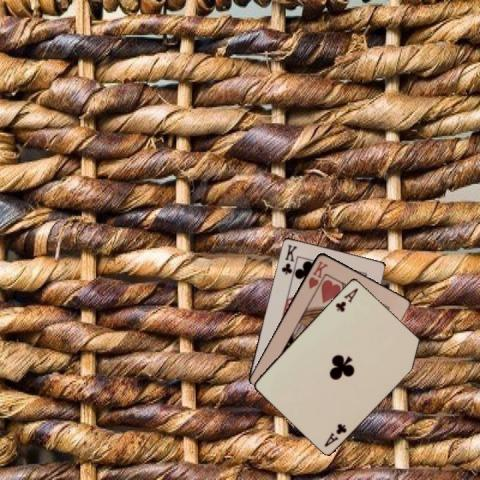Ac: (321, 421, 348, 448), (333, 285, 359, 313)
Kc: (279, 241, 298, 276)
Kh: (306, 257, 330, 290)
